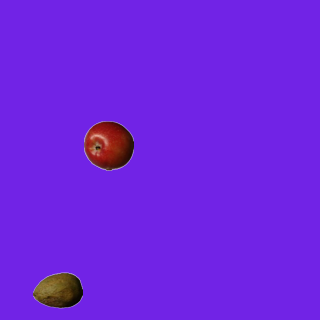Apple Braeburn: (83, 120, 133, 170)
Papaya: (32, 265, 82, 315)
